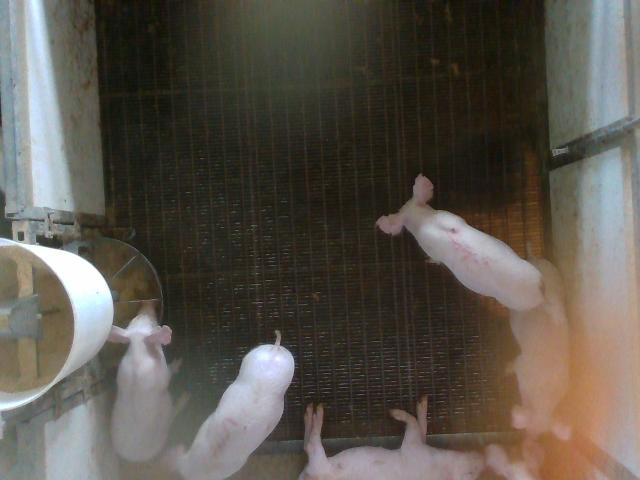pig-5: (376, 175, 544, 311)
